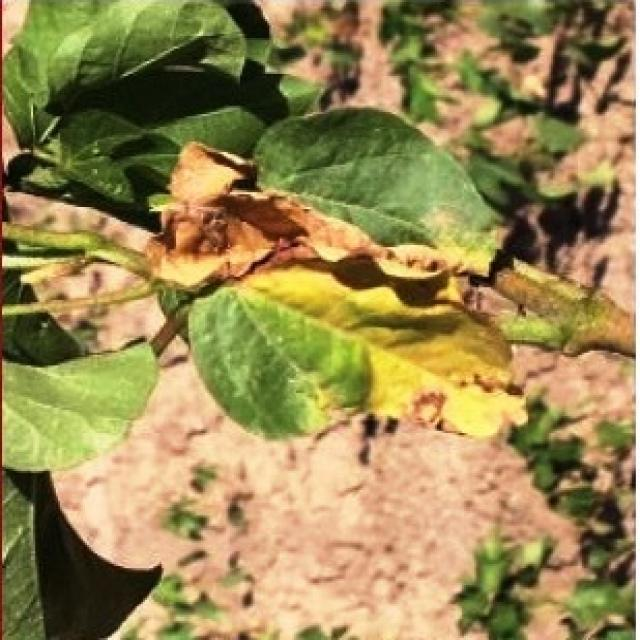Fusarium Wilt: (23, 6, 640, 478)
